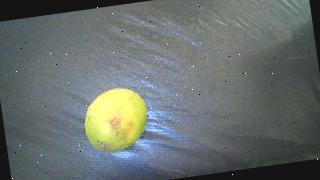DESECHO: (79, 85, 151, 155)
